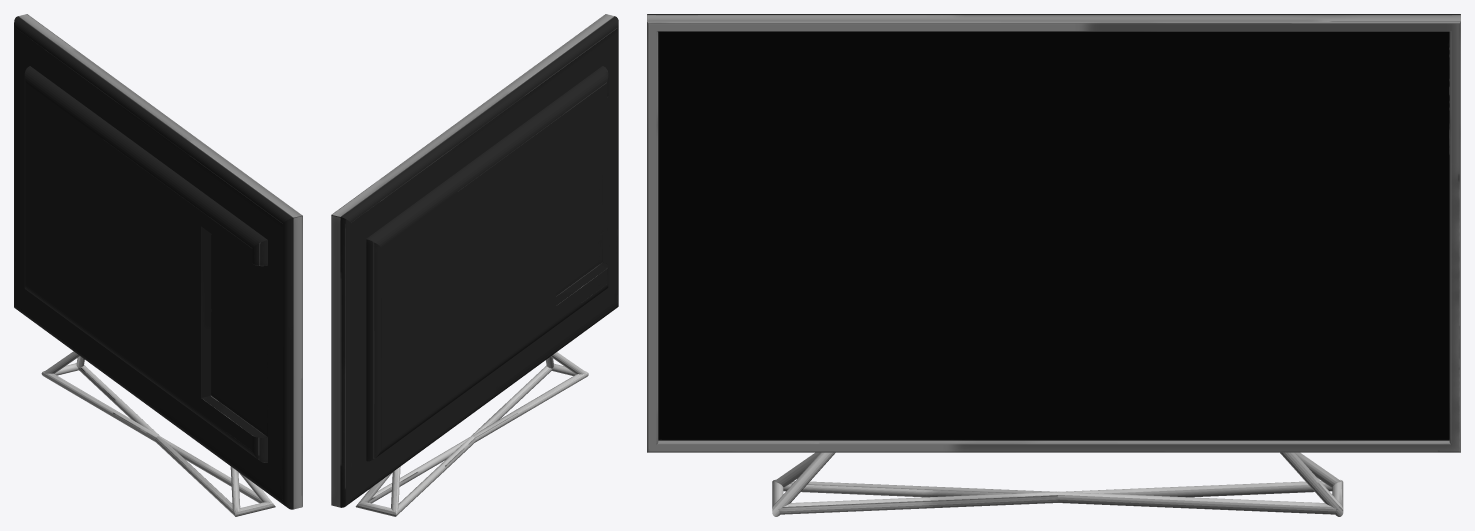
3 views of the same model, side by side, from view 1: azimuth 30°, elevation 25°; view 2: azimuth 150°, elevation 25°; view 3: azimuth 270°, elevation 25° (orthographic). The views are drawn at different scales.
Visible parts, largest first — view 1: tv; view 2: tv; view 3: tv.
Boxes of the visible parts, box(x1,y1,x2,y2) form: tv: box(14, 14, 302, 516); tv: box(331, 14, 618, 516); tv: box(647, 14, 1460, 516).
Size of the model in its own units: 0.1264 by 1.45 by 0.9546.
1 material, 1 textured.
